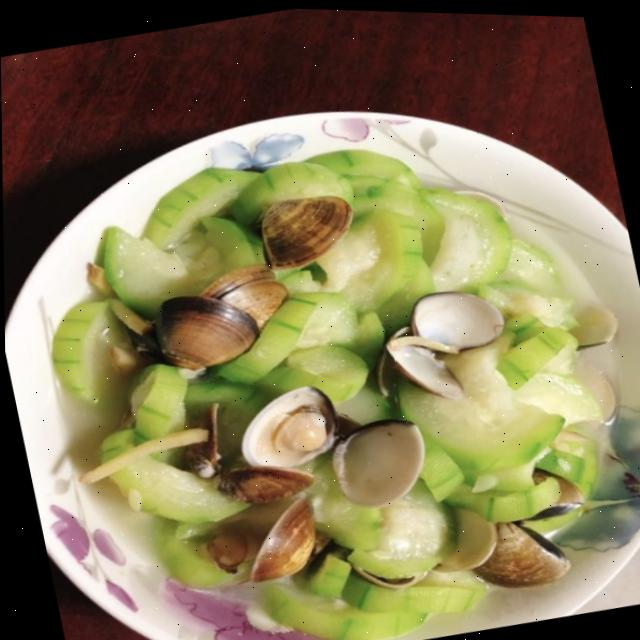Wet: (64, 133, 640, 640)
